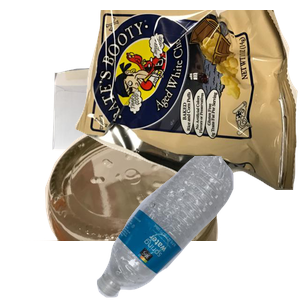glass: (22, 120, 233, 300)
paper: (50, 61, 257, 211)
plastic: (94, 156, 300, 300)
trash: (75, 10, 300, 190)
